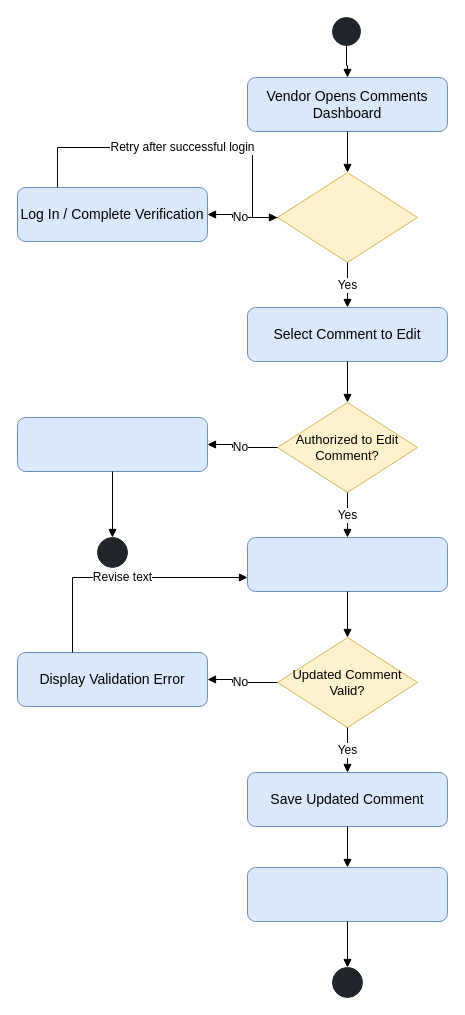
Image size: 465x1015. Some labels were removed from this diagram. Each missing label, with the box of its shape:
Display Access Denied: (16, 416, 208, 472)
Display Updated Comment / Confirmation: (246, 866, 448, 922)
Update Comment Text: (246, 536, 448, 592)
Vendor Logged In and Verified?: (276, 172, 418, 262)
